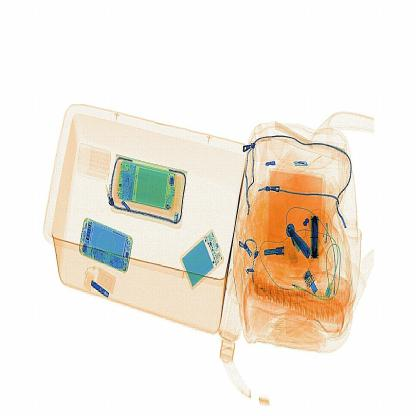scissors: (307, 212, 322, 262)
